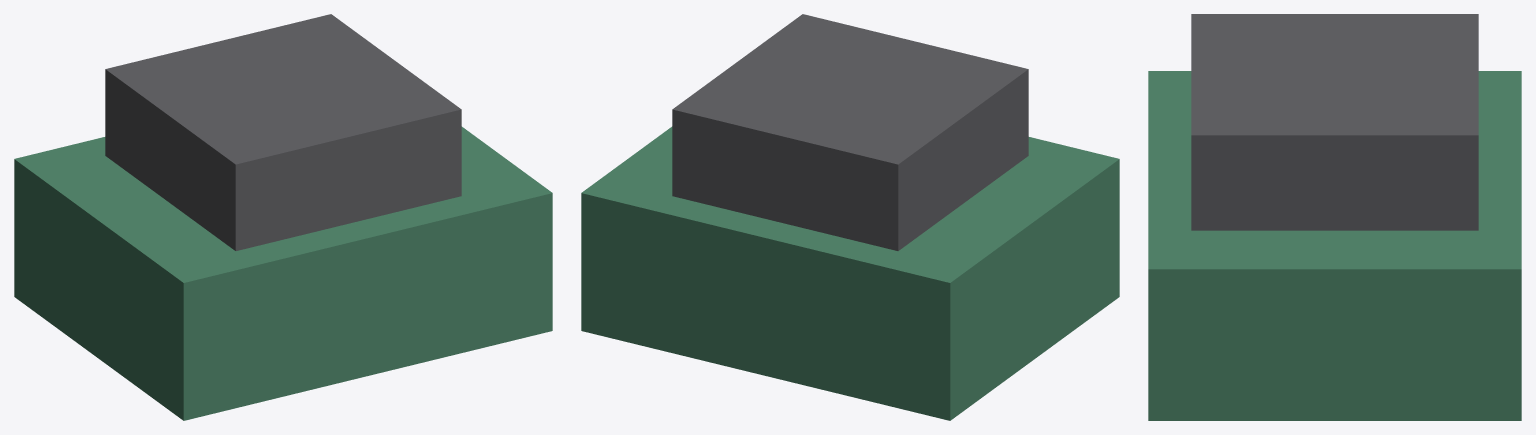
3 renders of one model, left to right at view 1: azimuth 30°, elevation 25°; view 2: azimuth 150°, elevation 25°; view 3: azimuth 270°, elevation 25°, orthographic. The views are drawn at different scales.
Parts seen in each view (by area): view 1: at24c256-pcb, at24c256-ic; view 2: at24c256-pcb, at24c256-ic; view 3: at24c256-pcb, at24c256-ic.
Boxes of the visible parts, x1=… form: at24c256-pcb: x1=14, y1=126, x2=552, y2=420; at24c256-ic: x1=105, y1=14, x2=461, y2=250; at24c256-pcb: x1=581, y1=126, x2=1119, y2=420; at24c256-ic: x1=672, y1=14, x2=1028, y2=250; at24c256-pcb: x1=1148, y1=71, x2=1521, y2=420; at24c256-ic: x1=1191, y1=14, x2=1478, y2=230.
Size of the model in its own units: 0.0049 by 0.00285 by 0.0039.
